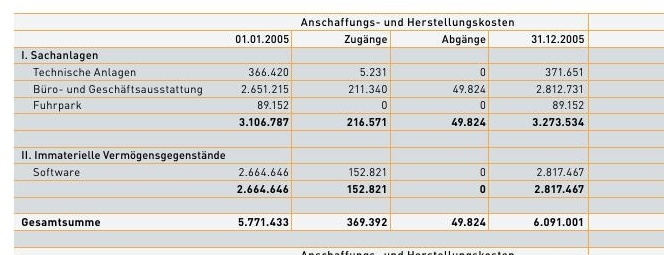table: (0, 0, 664, 255)
